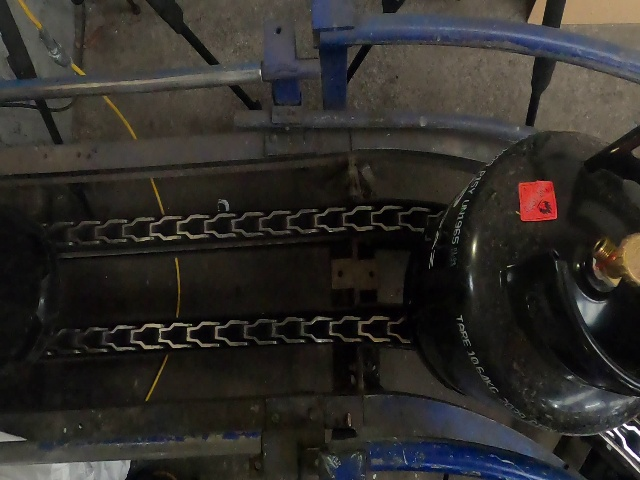gas_bottle: (1, 1, 640, 480)
